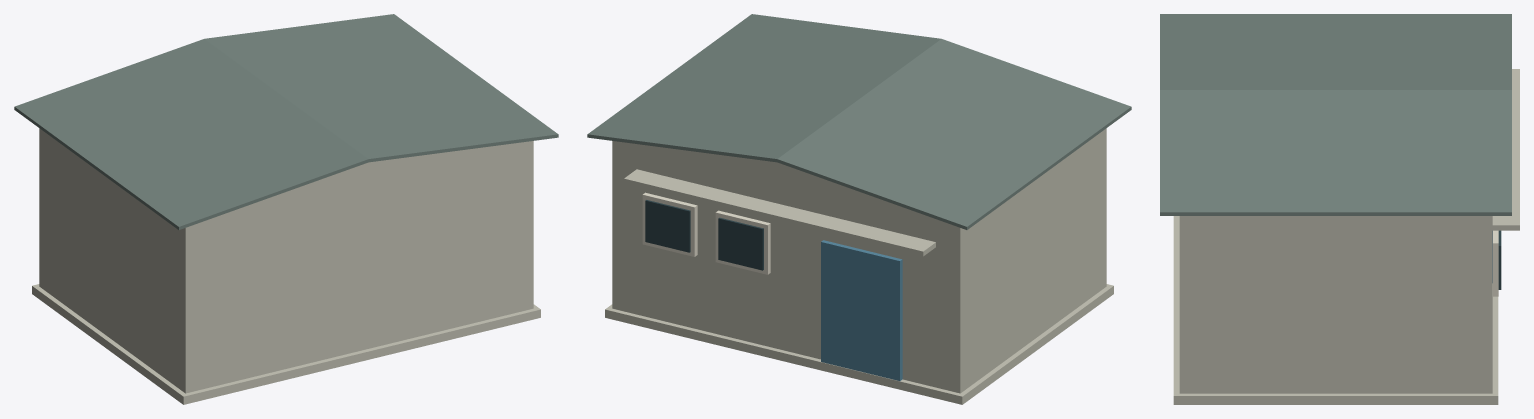
Rendered from KOL_HBR_CTX_01.fbx.
3 renders of one model, left to right at view 1: azimuth 30°, elevation 25°; view 2: azimuth 150°, elevation 25°; view 3: azimuth 270°, elevation 25°, orthographic. The views are drawn at different scales.
Visible parts, largest first — view 1: KOL_HBR_CTX_01__Shell__Concrete, KOL_HBR_CTX_01__Shell__Roof; view 2: KOL_HBR_CTX_01__Shell__Concrete, KOL_HBR_CTX_01__Shell__Roof, KOL_HBR_CTX_01__Shell__Blue, KOL_HBR_CTX_01__Shell__Window, KOL_HBR_CTX_01__Shell__White; view 3: KOL_HBR_CTX_01__Shell__Roof, KOL_HBR_CTX_01__Shell__Concrete, KOL_HBR_CTX_01__Shell__White.
Boxes of the visible parts, box(x1,y1,x2,y2) form: KOL_HBR_CTX_01__Shell__Concrete: box(32, 128, 540, 404); KOL_HBR_CTX_01__Shell__Roof: box(14, 14, 558, 229); KOL_HBR_CTX_01__Shell__Concrete: box(605, 128, 1113, 404); KOL_HBR_CTX_01__Shell__Roof: box(587, 14, 1131, 229); KOL_HBR_CTX_01__Shell__Blue: box(821, 240, 902, 380); KOL_HBR_CTX_01__Shell__Window: box(645, 200, 763, 270); KOL_HBR_CTX_01__Shell__White: box(642, 192, 770, 274); KOL_HBR_CTX_01__Shell__Roof: box(1160, 14, 1511, 215); KOL_HBR_CTX_01__Shell__Concrete: box(1173, 69, 1519, 404); KOL_HBR_CTX_01__Shell__White: box(1493, 230, 1498, 296).
Size of the model in its own units: 24 by 12.5 by 18.4.
